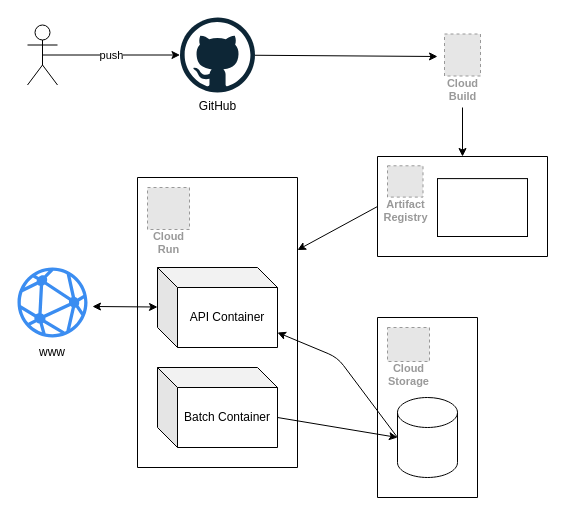
This 565x515 diagram has some shape labels left out. Grey dashed boxes stand in for pictures. The shapes that lost their labels are listed below. From the top down, each one's centre as x and y in pixels, then its label:
At (x=42, y=54): "ワイ".
At (x=482, y=207): "Go Image API/Batch".
At (x=427, y=437): "SQLite".
